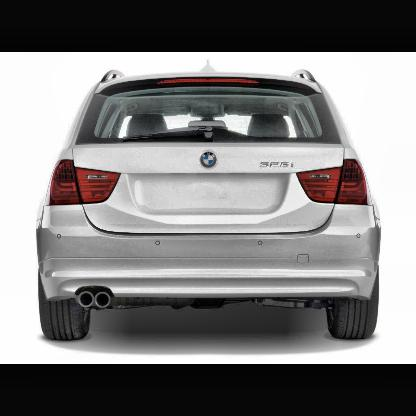BMW 3 Series Wagon 2012: (36, 61, 384, 344)
